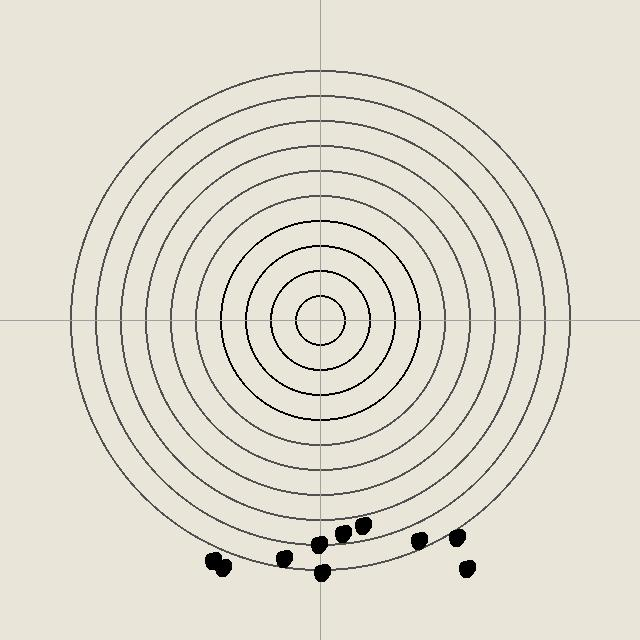horizontal_scatter: (308, 534, 328, 554), (273, 548, 293, 568), (332, 523, 352, 543), (408, 530, 428, 550), (212, 557, 232, 577), (352, 515, 372, 535), (202, 550, 222, 570), (311, 562, 331, 582), (446, 527, 466, 547), (456, 558, 476, 578)
